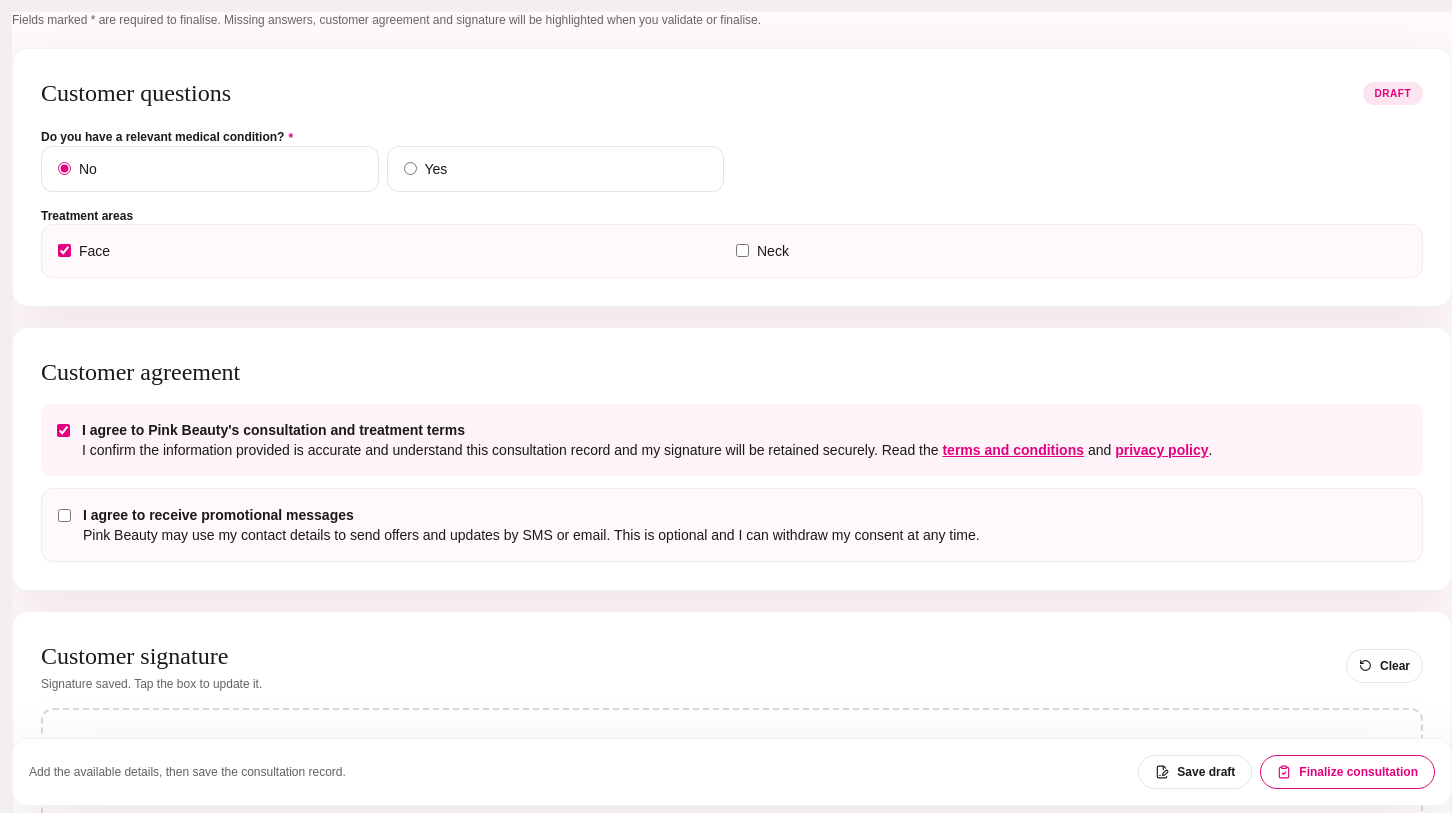
it: consultation save recovery › recovers from a network failure without leaving save disabled
The width and height of the screenshot is (1452, 813).
What coordinates should you click on to do the following:
click the button "Finalize consultation"
I would click on:
 (1348, 772)
Its box is x1=1260 y1=755 x2=1435 y2=789.
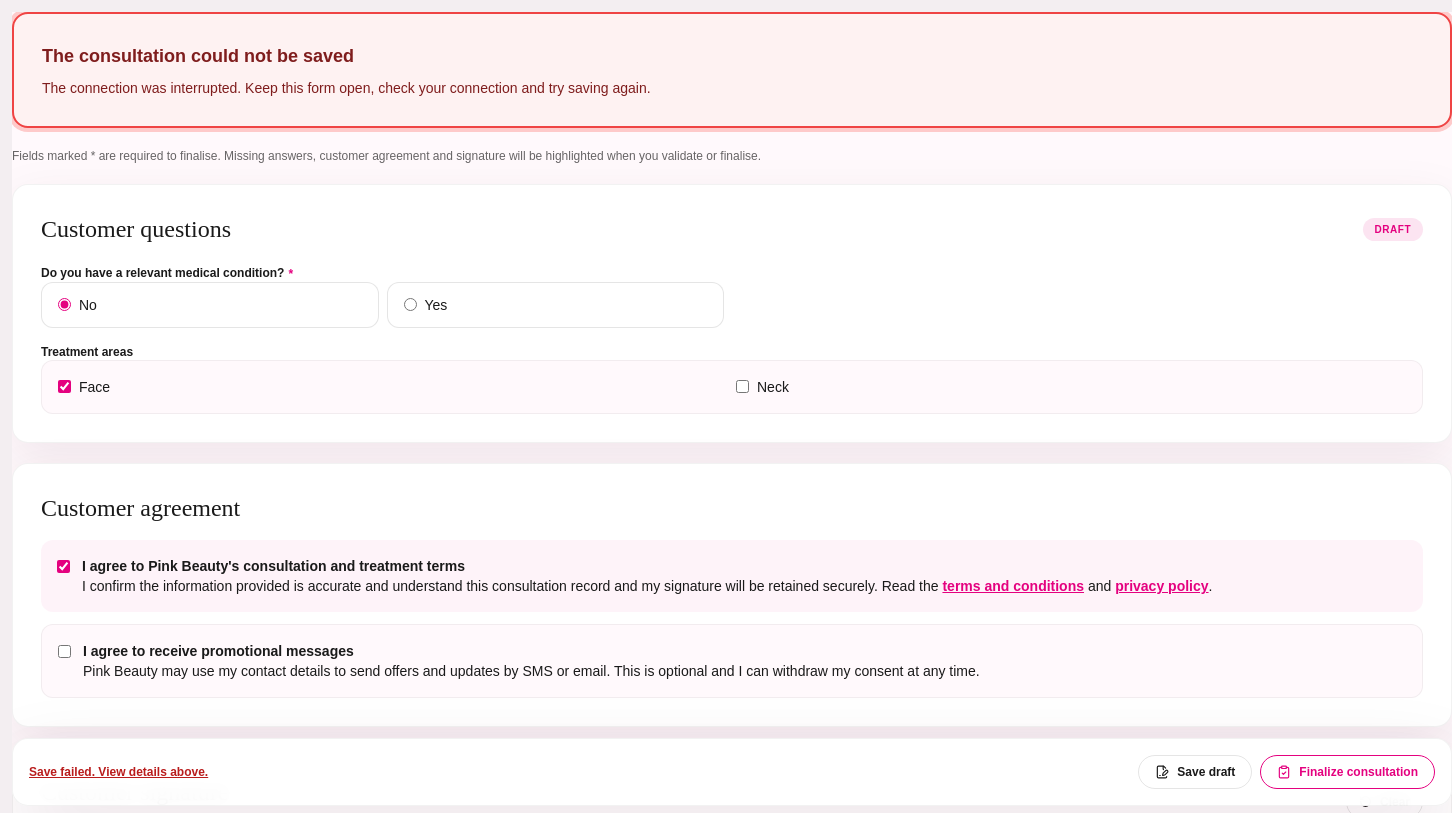
Check: the message shows "connection was interrupted", box x1=42 y1=80 x2=651 y2=96
